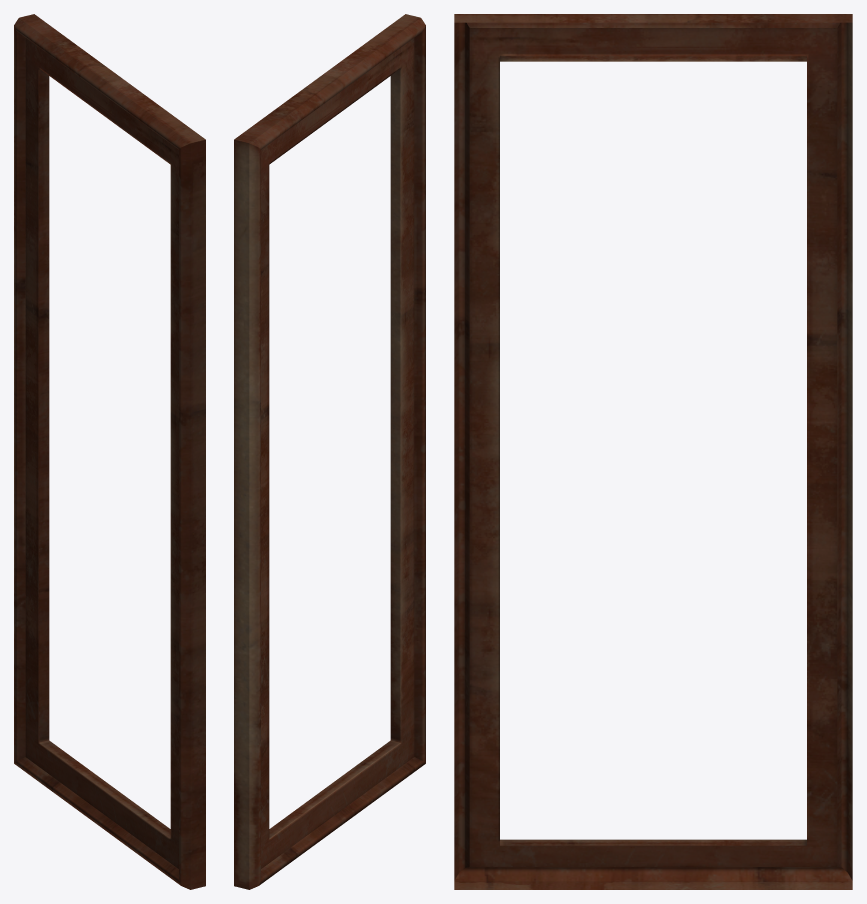
File: SM_PictureFrame.FBX
3 renders of one model, left to right at view 1: azimuth 30°, elevation 25°; view 2: azimuth 150°, elevation 25°; view 3: azimuth 270°, elevation 25°, orthographic. The views are drawn at different scales.
Visible parts, largest first — view 1: SM_PictureFrame; view 2: SM_PictureFrame; view 3: SM_PictureFrame.
Boxes of the visible parts, box(x1,y1,x2,y2) form: SM_PictureFrame: box(14, 14, 205, 889); SM_PictureFrame: box(234, 14, 425, 889); SM_PictureFrame: box(454, 14, 852, 889).
Bounding box in the file's own units: 6.36 × 84.01 × 202.
